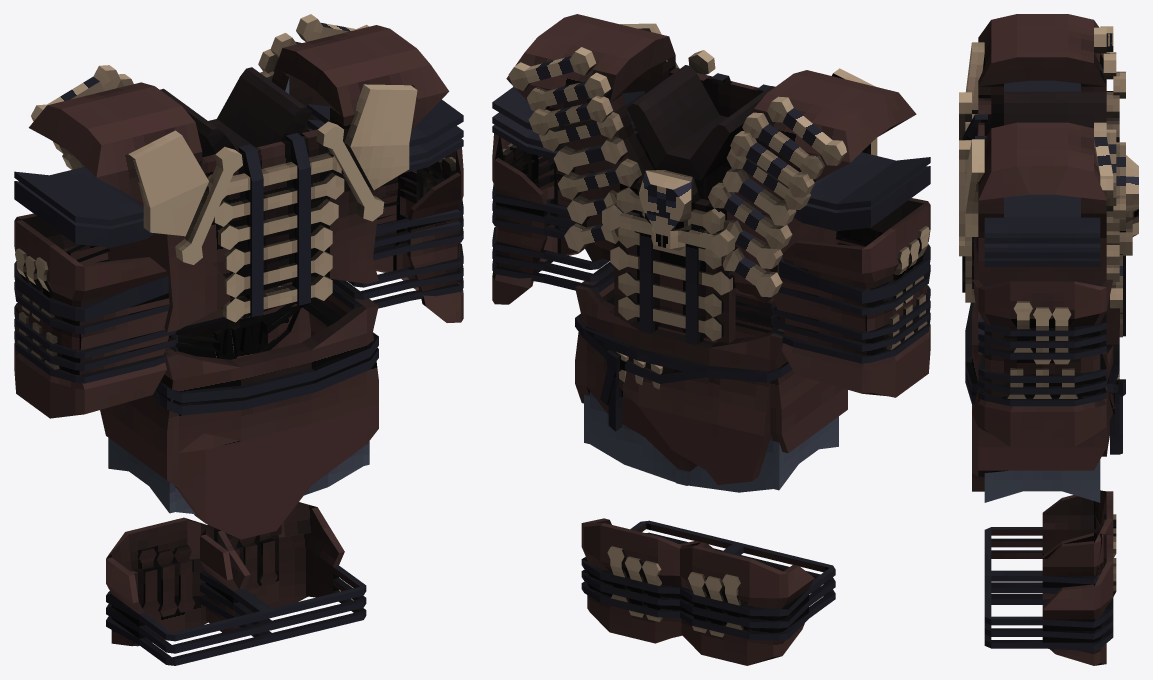
3 renders of one model, left to right at view 1: azimuth 30°, elevation 25°; view 2: azimuth 150°, elevation 25°; view 3: azimuth 270°, elevation 25°, orthographic. The views are drawn at different scales.
Visible parts, largest first — view 1: body, left_arm, left_leg, right_leg, right_arm; view 2: body, left_arm, left_leg, right_leg, right_arm; view 3: body, right_arm, right_leg, left_leg, left_arm.
Part boxes in pixels (x1,y1,x2,y2): body: [29, 14, 449, 455]; left_arm: [14, 166, 177, 418]; left_leg: [100, 409, 276, 665]; right_leg: [200, 404, 378, 642]; right_arm: [307, 99, 463, 322]; body: [506, 14, 916, 436]; left_arm: [771, 152, 930, 397]; left_leg: [638, 388, 847, 665]; right_leg: [575, 384, 743, 643]; right_arm: [492, 87, 645, 304]; body: [959, 14, 1138, 454]; right_arm: [972, 194, 1112, 446]; right_leg: [972, 416, 1116, 665]; left_leg: [984, 490, 1116, 607]; left_arm: [1004, 80, 1080, 91].
Size of the model in its own units: 1.11 by 1.49 by 0.4375.
1 material, 1 textured.
